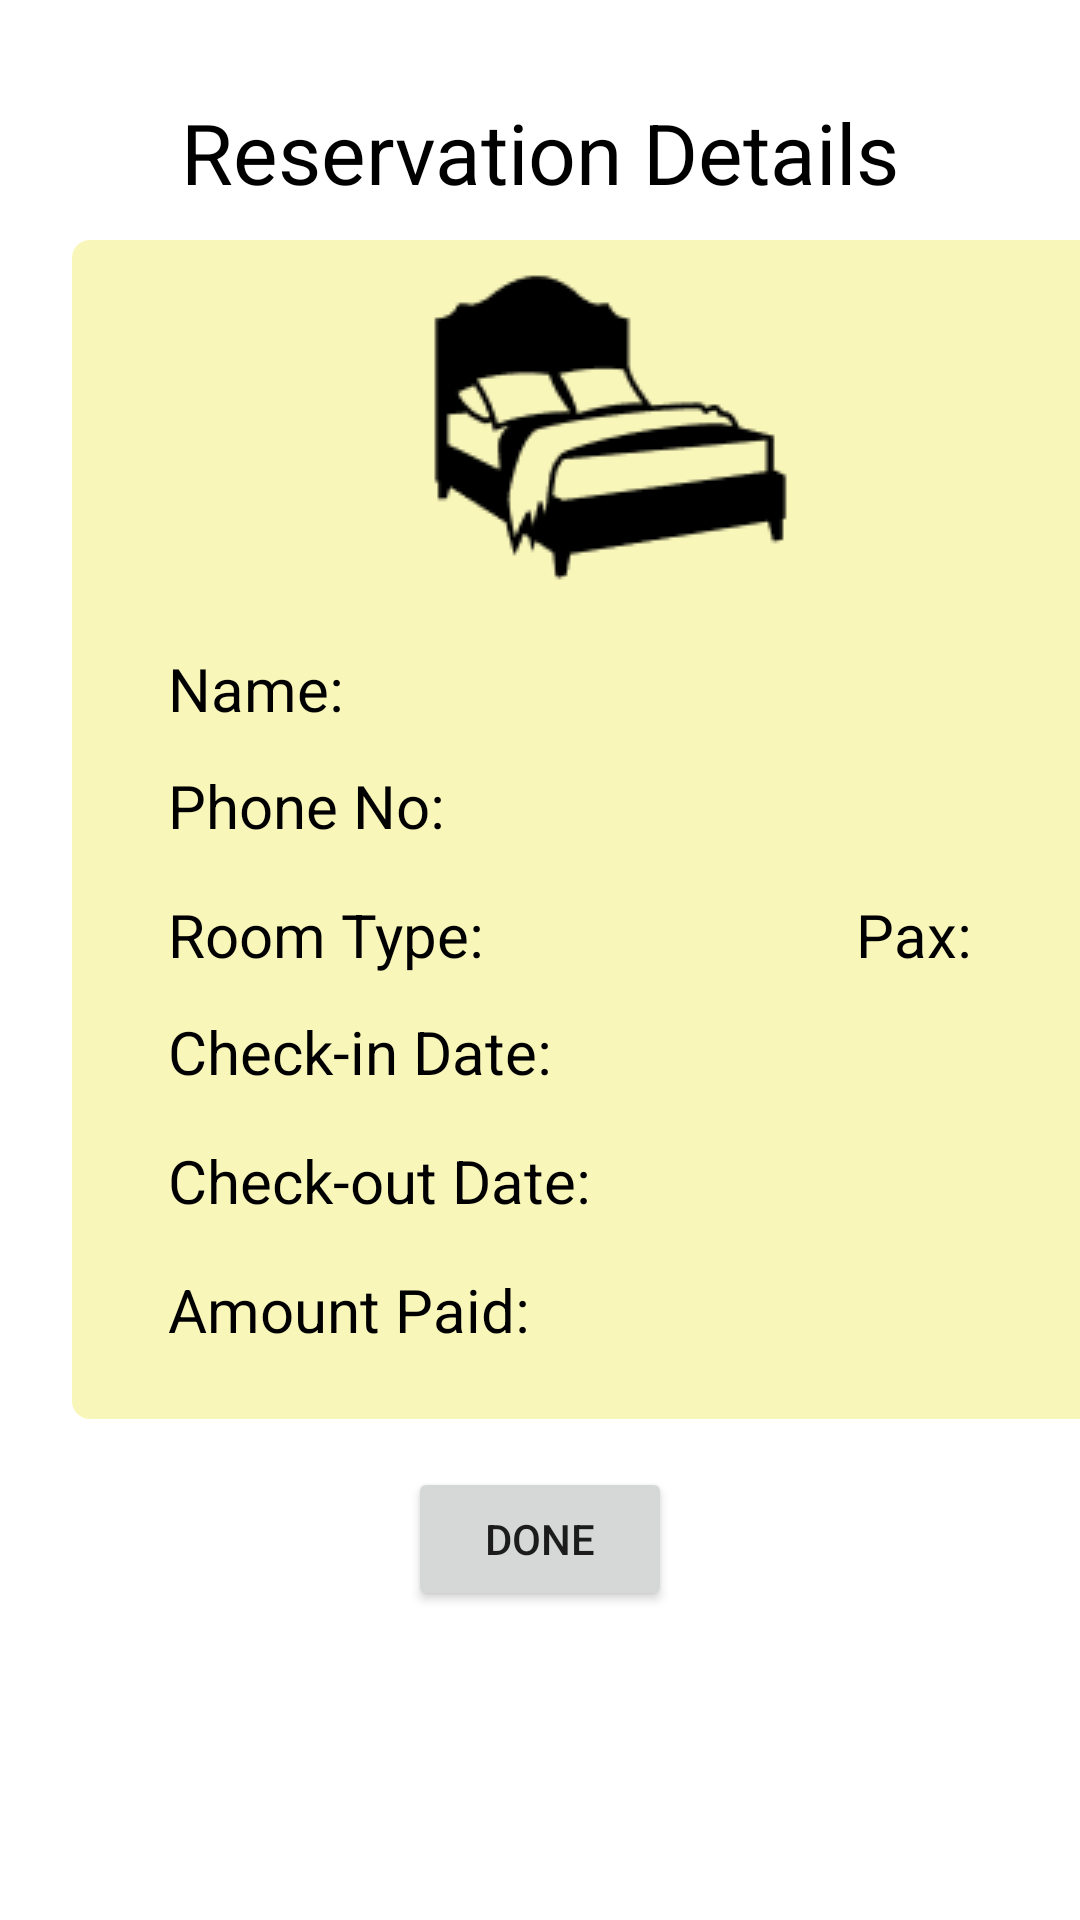

Screen size 1080×1920. Icon name, then its box in pixels as (x1, y1, x2, y2):
bed: (434, 275, 787, 580)
